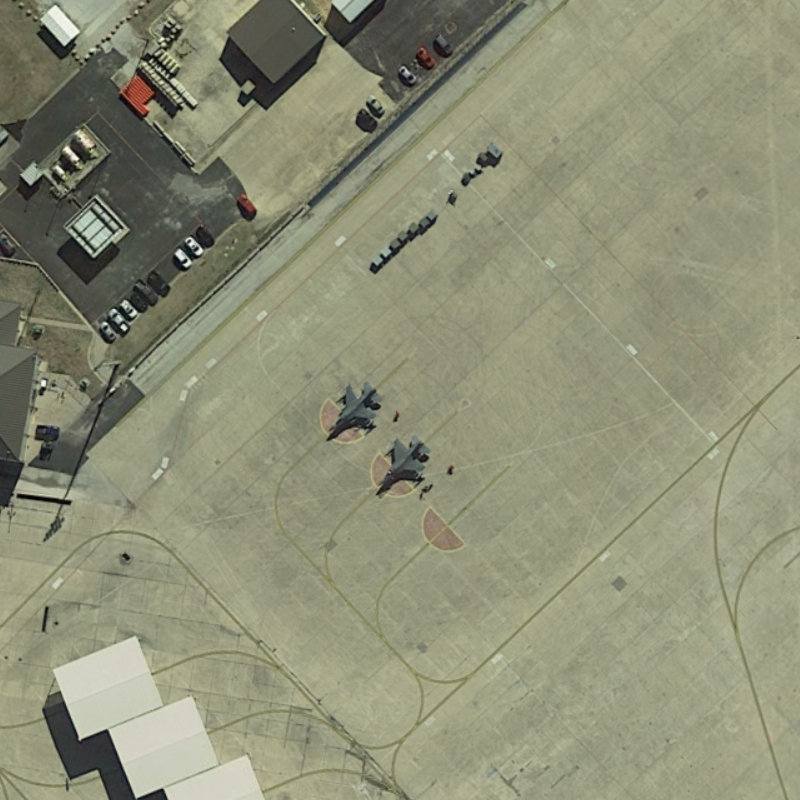A5: (369, 435, 441, 503), (323, 375, 388, 446)
